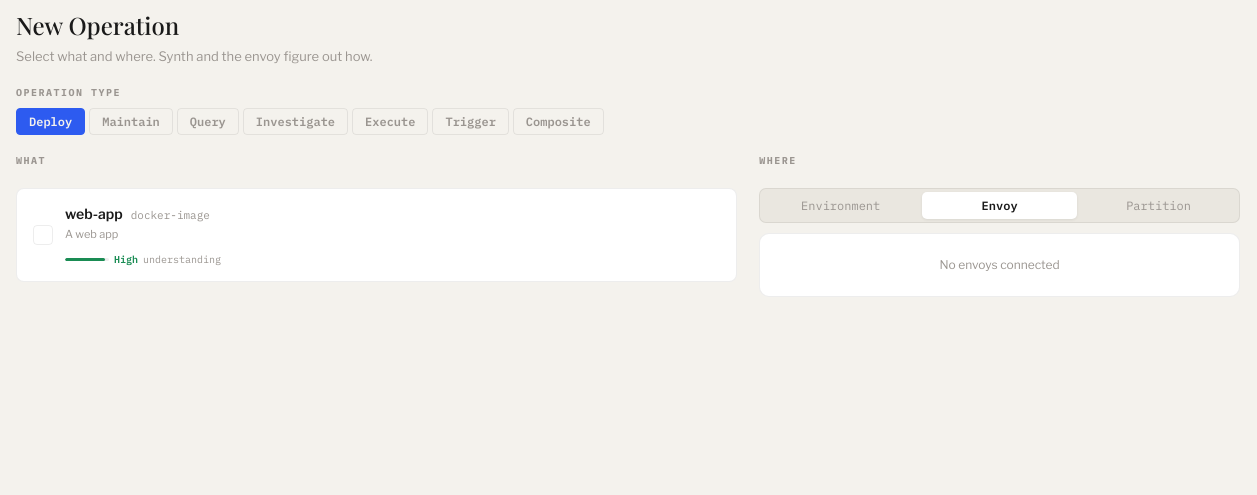
Test case: OperationAuthoringPanel › trigger type › shows condition and response intent fields
Click the button "trigger". click: (471, 121)
box: x1=432 y1=108 x2=509 y2=134
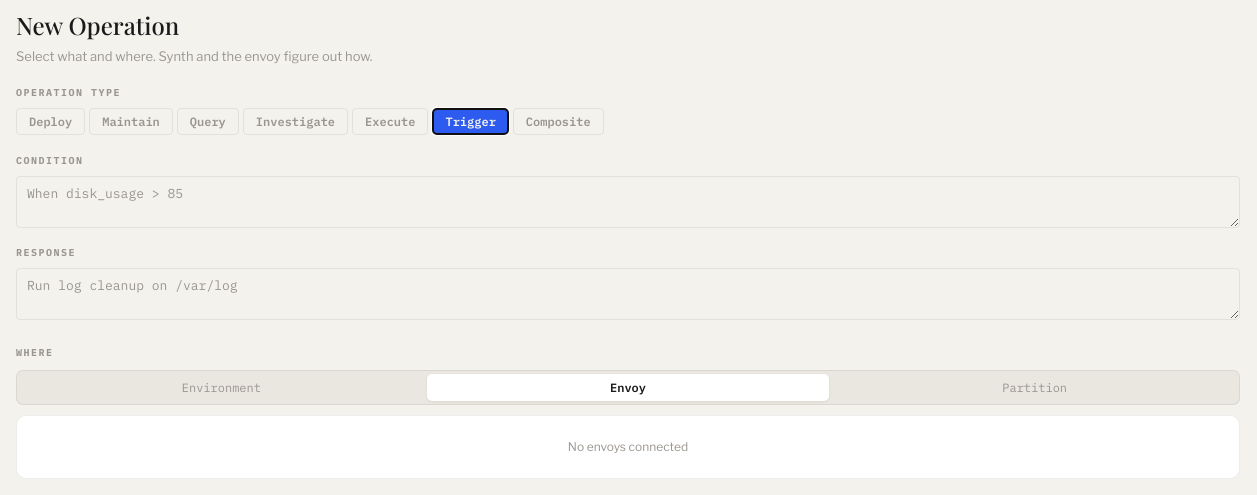
Result: the text "Condition" is shown at x1=16 y1=154 x2=84 y2=166
Result: the text "Response" is shown at x1=16 y1=246 x2=76 y2=258
